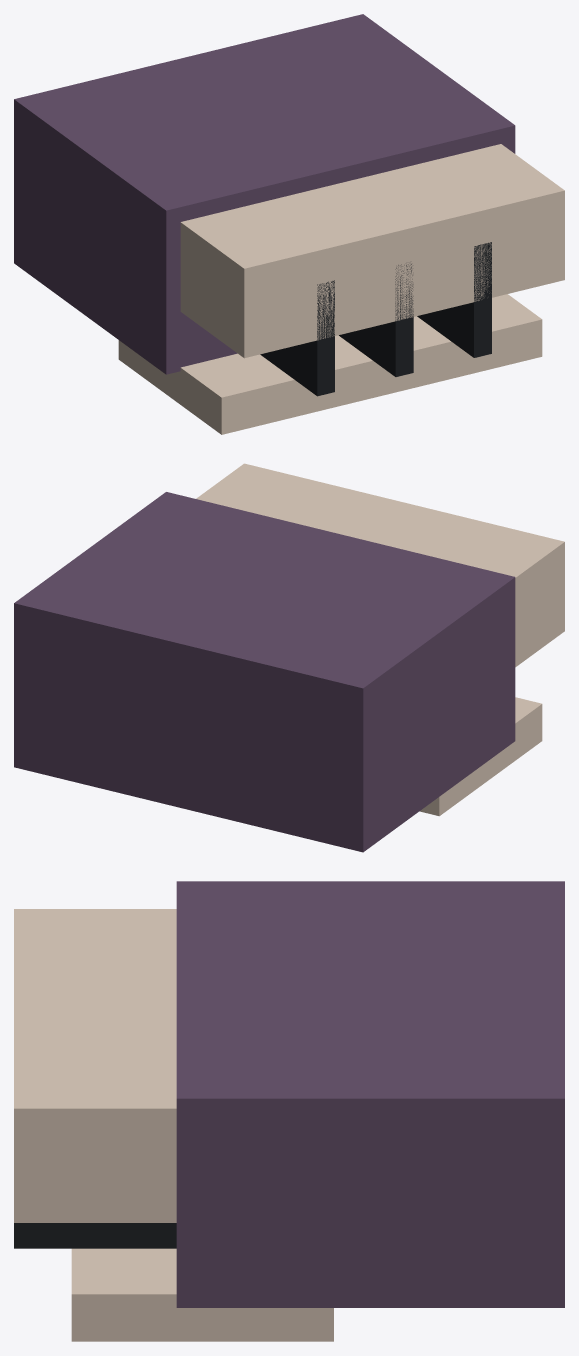
The model's file is inf_v2_brute_hand_l.fbx.
3 renders of one model, top to bottom at view 1: azimuth 30°, elevation 25°; view 2: azimuth 150°, elevation 25°; view 3: azimuth 270°, elevation 25°, orthographic. The views are drawn at different scales.
Parts seen in each view (by area): view 1: inf_v2_brute_hand_l; view 2: inf_v2_brute_hand_l; view 3: inf_v2_brute_hand_l.
Boxes of the visible parts, bbox=[...] form: inf_v2_brute_hand_l: bbox=[14, 14, 564, 434]; inf_v2_brute_hand_l: bbox=[14, 463, 564, 852]; inf_v2_brute_hand_l: bbox=[14, 881, 564, 1341].
Bounding box in the file's own units: 98 × 53 × 105.
